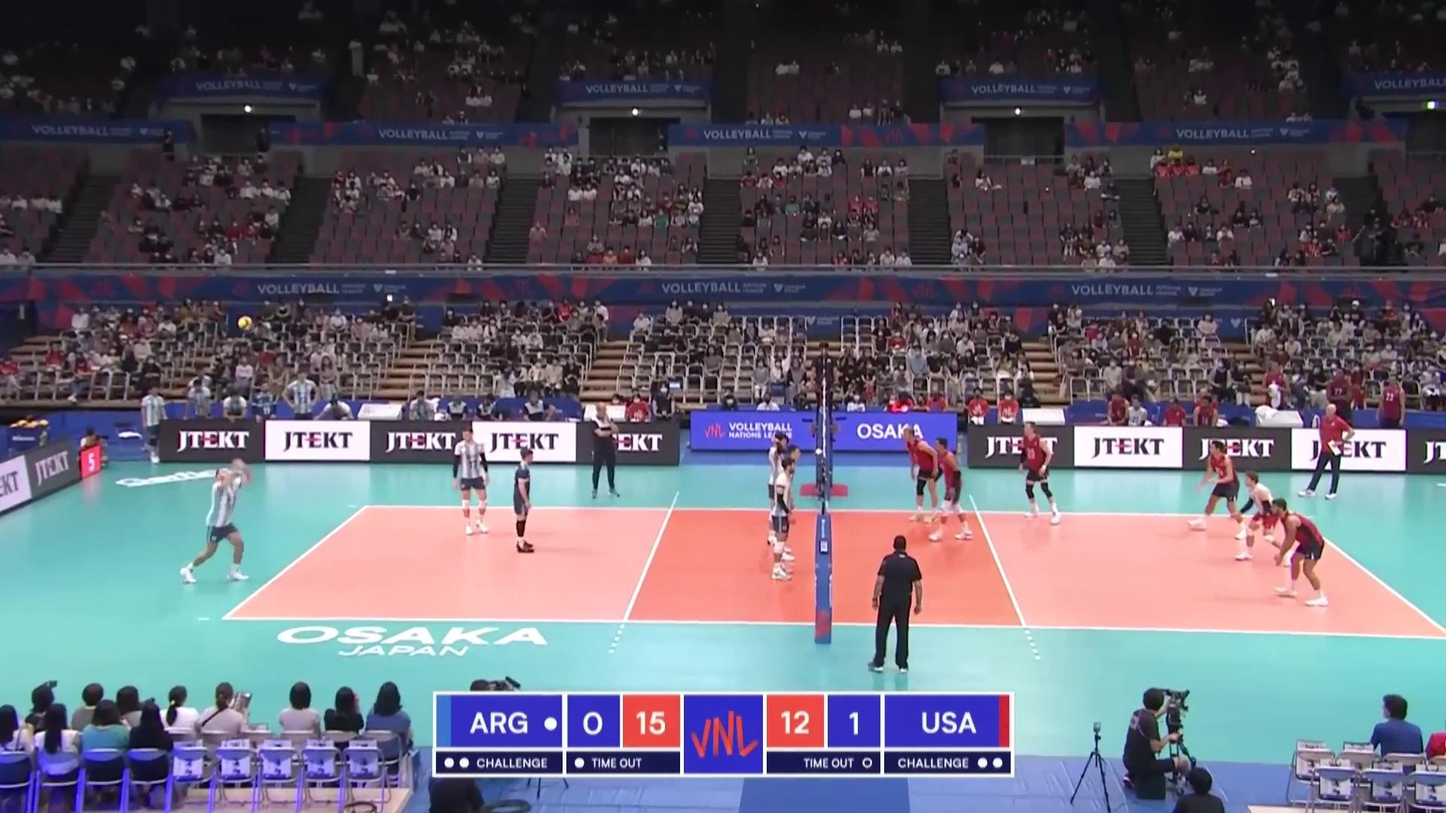player: (180, 460, 253, 584), (1270, 497, 1327, 605), (1189, 441, 1248, 537), (1017, 419, 1061, 526), (930, 437, 972, 543), (902, 427, 944, 523), (1237, 473, 1283, 559), (454, 429, 490, 538), (773, 446, 802, 562), (769, 459, 795, 581), (768, 431, 795, 546), (511, 447, 534, 554)
refree: (870, 535, 923, 671), (813, 343, 837, 425)
